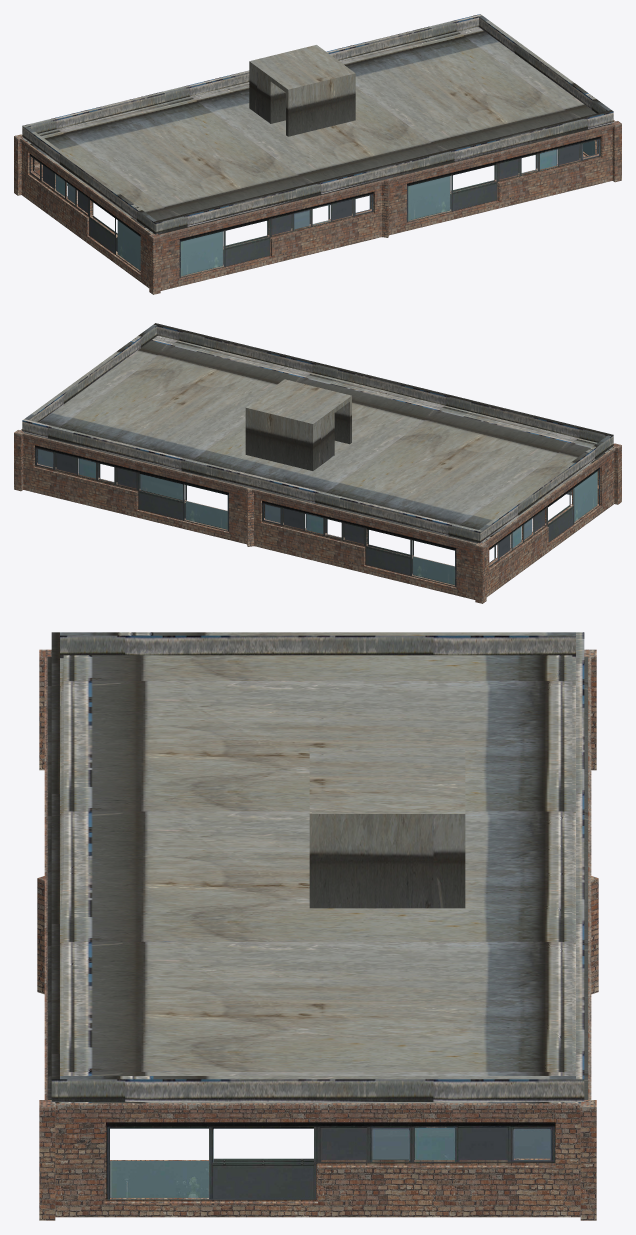
File: BagSS11top_300.fbx
3 views of the same model, one above another, from view 1: azimuth 30°, elevation 25°; view 2: azimuth 150°, elevation 25°; view 3: azimuth 270°, elevation 25° (orthographic). The views are drawn at different scales.
Parts seen in each view (by area): view 1: topRoof500, topMain500; view 2: topRoof500, topMain500; view 3: topRoof500, topMain500.
Part boxes in pixels (x1,y1,x2,y2): topRoof500: (22,14,613,234); topMain500: (14,120,621,294); topRoof500: (22,323,613,543); topMain500: (14,429,621,603); topRoof500: (47,632,588,1103); topMain500: (37,649,598,1220).
Size of the model in its own units: 169 by 36.66 by 87.6.
